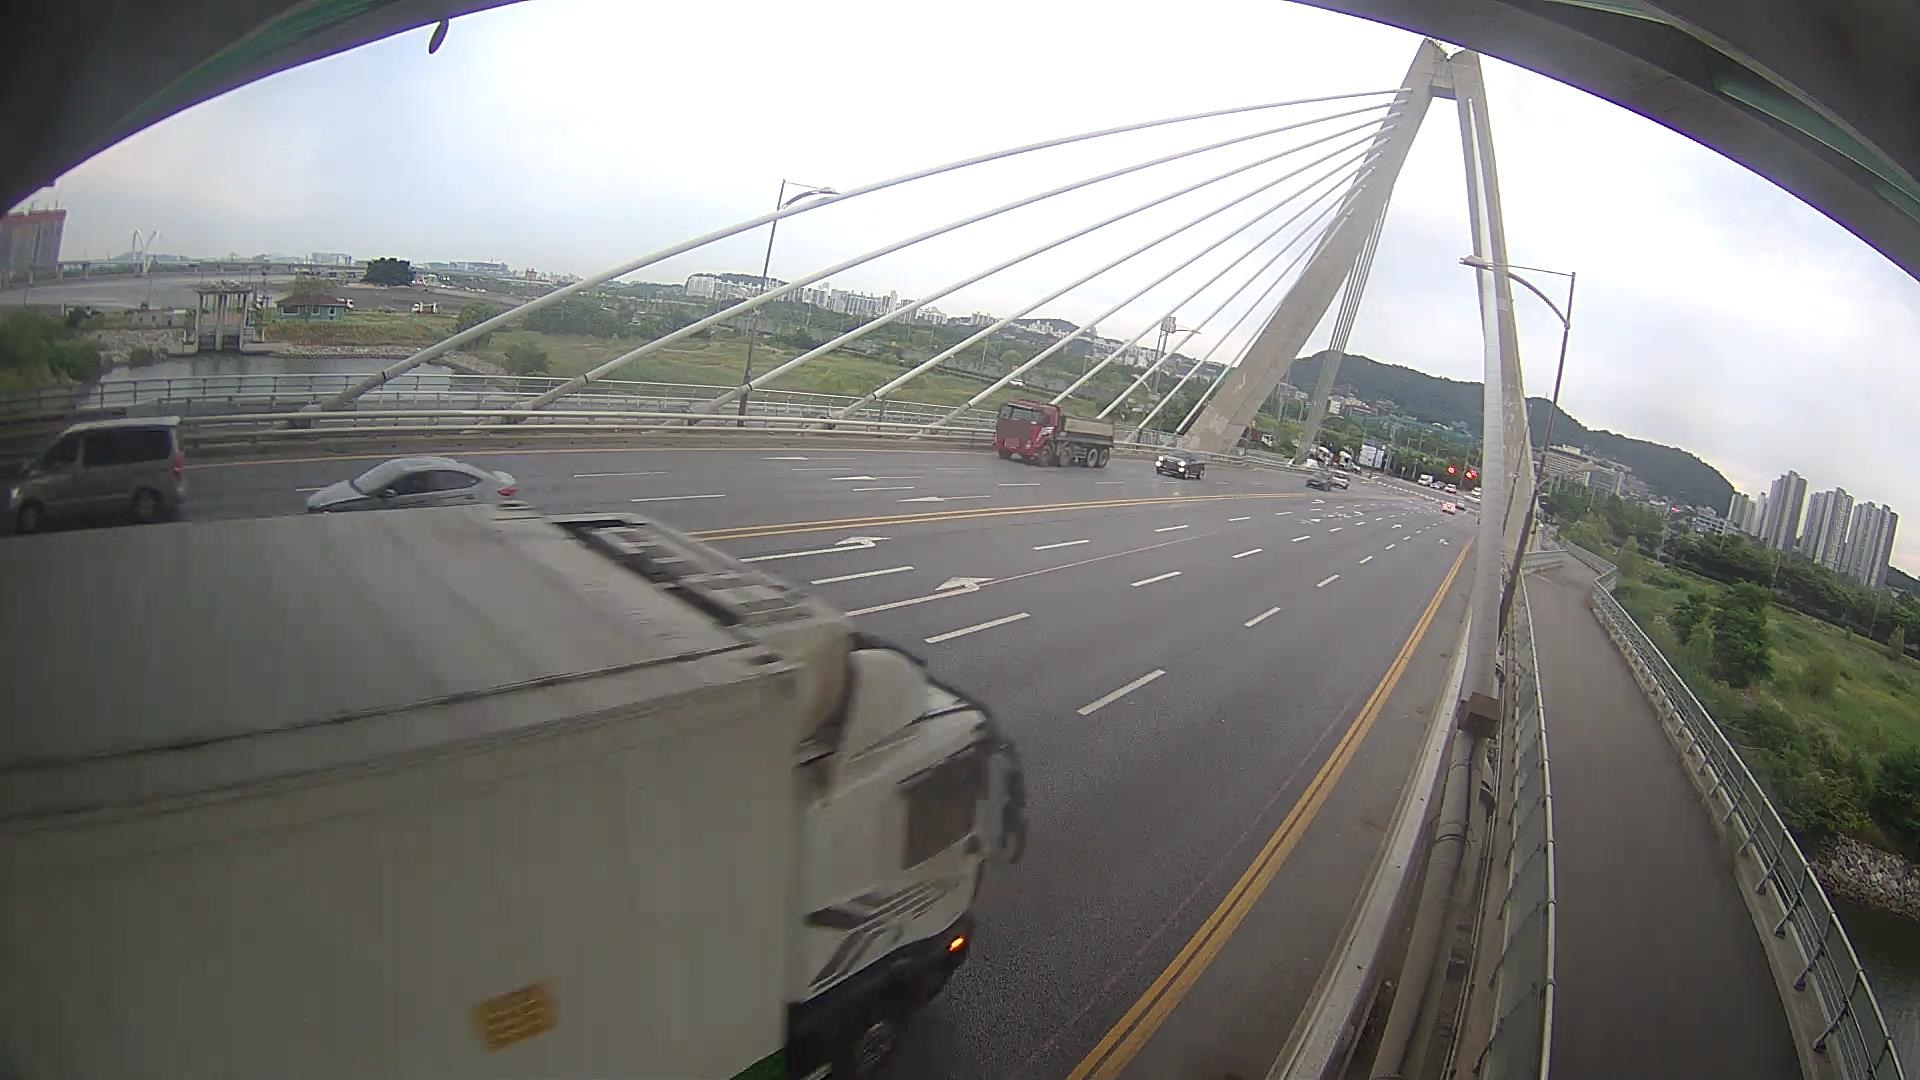정상차량: (992, 399, 1115, 468)
